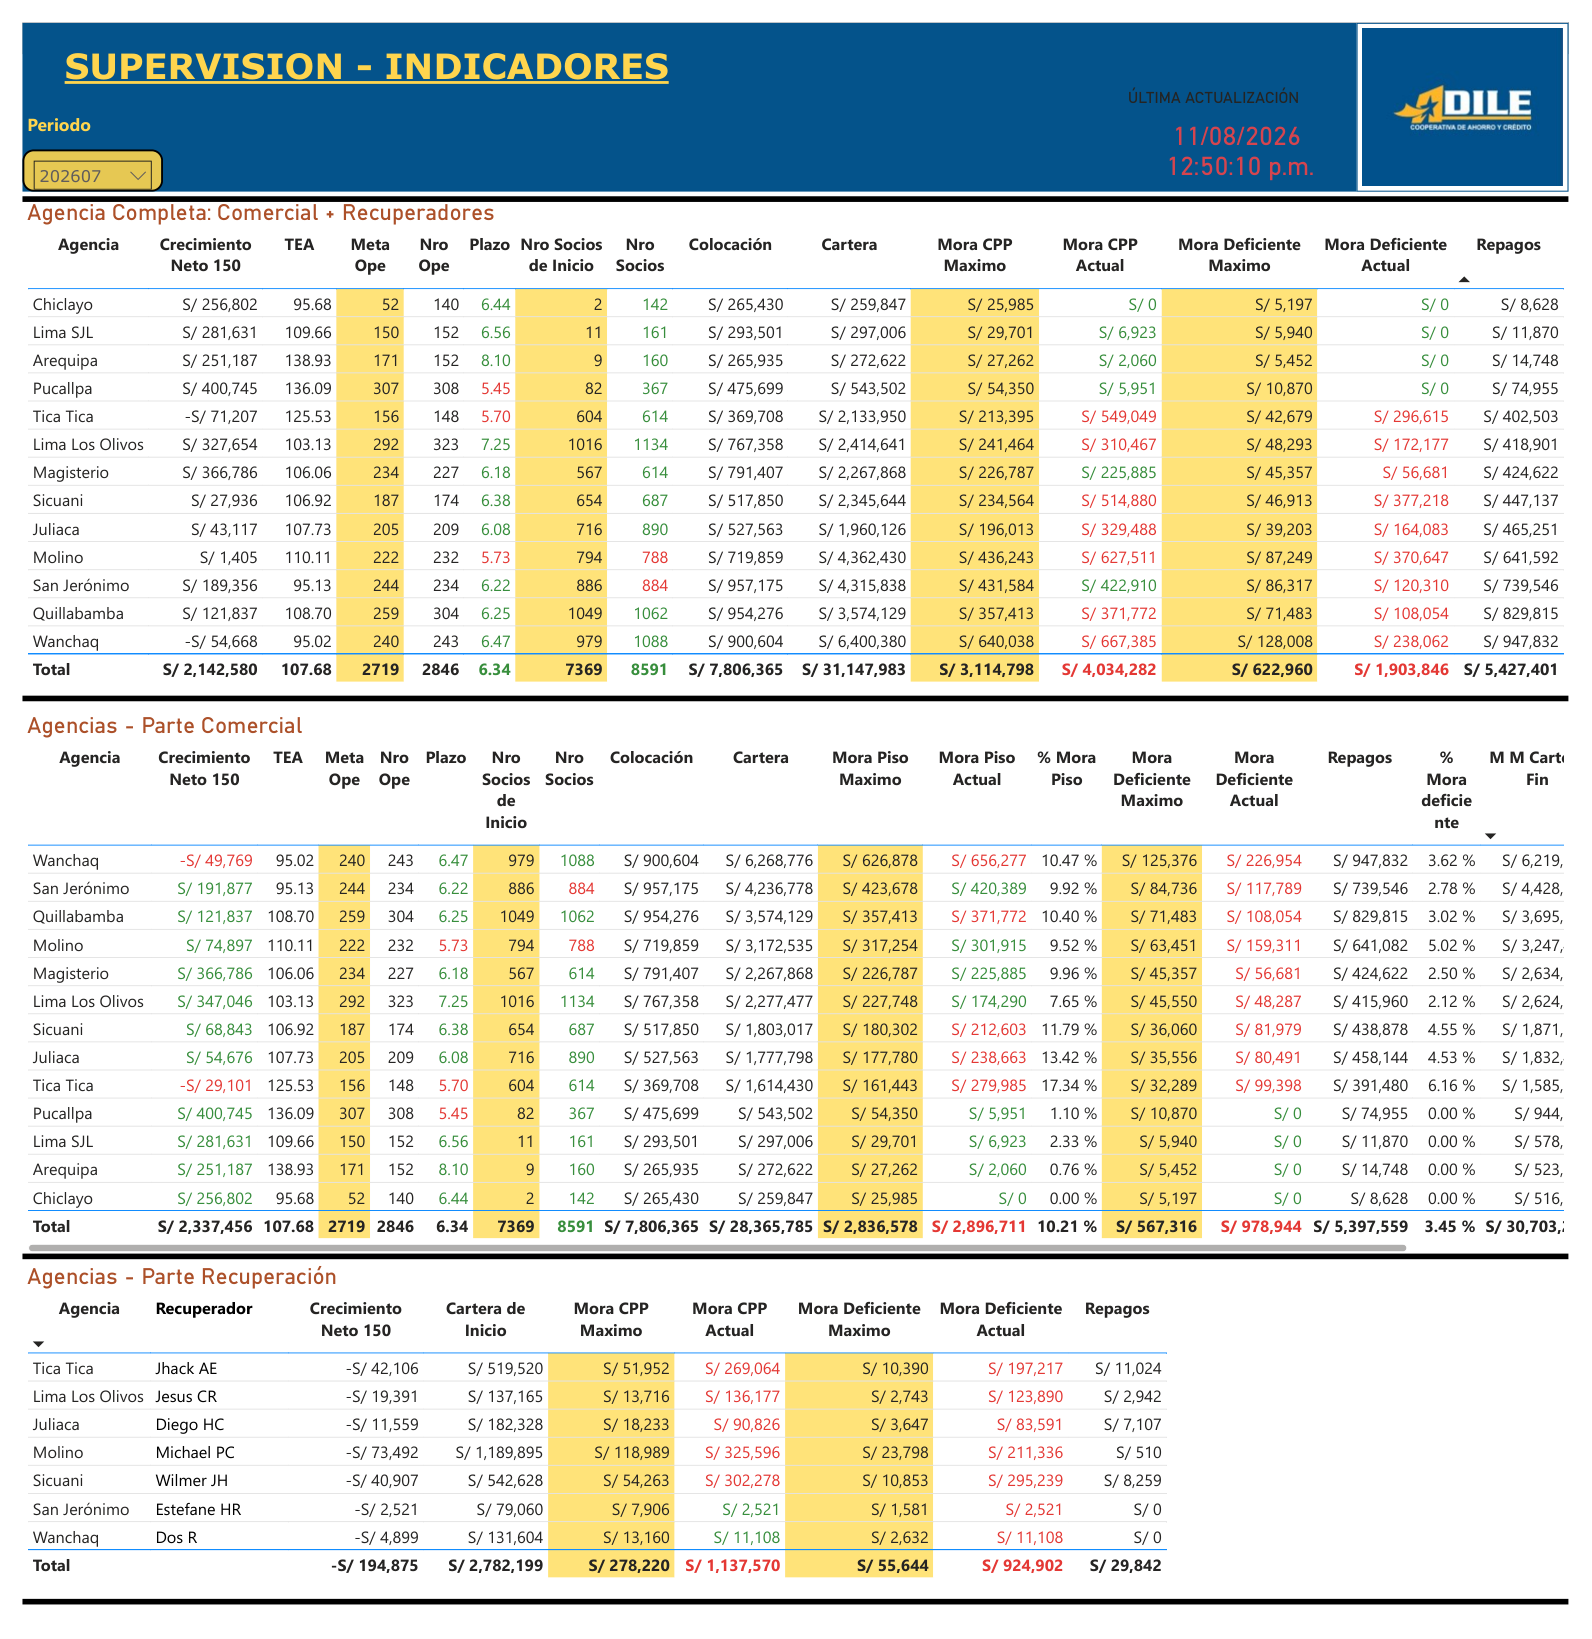

The page's visual inventory and layout, read from the dashboard file:
{"tool":"powerbi","page":{"name":"Supervision Agencias","canvas":[1650,1700],"ordinal":1},"visuals":[{"type":"group","id":"g1","title":"Group 1","box":[0,0,1650,180],"z":0},{"type":"textbox","box":[0,0,1650,180],"z":0,"group":"g1"},{"type":"image","box":[1423.5,0,226.5,180],"z":1000,"group":"g1"},{"type":"tableEx","title":"Agencias - Parte Comercial","fields":{"Values":["dim_agencia.Agencia","medidas.Crecimiento Neto 150","med_indicacores_supervision.TEA","medidas.# Agencia Operacion Meta","medidas.Operaciones","medidas.Duracion","med_indicacores_supervision.Nro Socios de Inicio","med_indicacores_supervision.Nro Socios","medidas.Desembolsos","medidas.Cartera de Inicio","med_indicacores_supervision.Mora CPP Maximo Agencia","medidas.Mora CPP"]},"box":[0,736,1650,581],"z":1000},{"type":"slicer","fields":{"Values":["dim_calendario.Periodo"]},"box":[0,135,150,45],"z":2000},{"type":"textbox","box":[0,90,150,45],"z":3000},{"type":"tableEx","title":"Agencia Completa: Comercial + Recuperadores","fields":{"Values":["dim_agencia.Agencia","medidas.Crecimiento Neto 150","med_indicacores_supervision.TEA","medidas.# Agencia Operacion Meta","medidas.Operaciones","medidas.Duracion","med_indicacores_supervision.Nro Socios de Inicio (Sin Recuperador)","med_indicacores_supervision.Nro Socios (Sin Recuperador)","medidas.Desembolsos","medidas.Cartera de Inicio","med_indicacores_supervision.Mora CPP Maximo Agencia","medidas.Mora CPP"]},"box":[0,188,1650,526],"z":4000},{"type":"tableEx","title":"Agencias - Parte Recuperación","fields":{"Values":["dim_agencia.Agencia","dim_asesor.Asesor","medidas.Crecimiento Neto 150","medidas.Cartera de Inicio","med_indicacores_supervision.Mora CPP Maximo Agencia","medidas.Mora CPP","med_indicacores_supervision.Mora Deficiente Maximo Agencia","medidas.Mora Deficiente","medidas.Repagos"]},"box":[0,1324,1480,376],"z":5000},{"type":"shape","box":[0,173,1650,30],"z":6000},{"type":"shape","box":[0,1309,1650,15],"z":7000},{"type":"shape","box":[0,706,1650,30],"z":8000},{"type":"shape","box":[0,1670,1650,30],"z":9000},{"type":"card","title":"ÚLTIMA ACTUALIZACIÓN","fields":{"Values":["Min(ultima_actualizacion.UltimaActualizacion)"]},"box":[1175,69,249,111],"z":10000}]}

Visuals, with their boxes in screenshot pixels (x1, y1, x2, y2), scaled from the page's 1650x1700 canvas onto the 1592x1639 screenshot:
"Group 1" group: 0 0 1591 174
textbox: 0 0 1591 174
image: 1373 0 1591 174
"Agencias - Parte Comercial" tableEx: 0 710 1591 1270
slicer - dim_calendario.Periodo: 0 130 145 174
textbox: 0 87 145 130
"Agencia Completa: Comercial + Recuperadores" tableEx: 0 181 1591 688
"Agencias - Parte Recuperación" tableEx: 0 1276 1428 1638
shape: 0 167 1591 196
shape: 0 1262 1591 1276
shape: 0 681 1591 710
shape: 0 1610 1591 1638
"ÚLTIMA ACTUALIZACIÓN" card: 1134 67 1374 174
